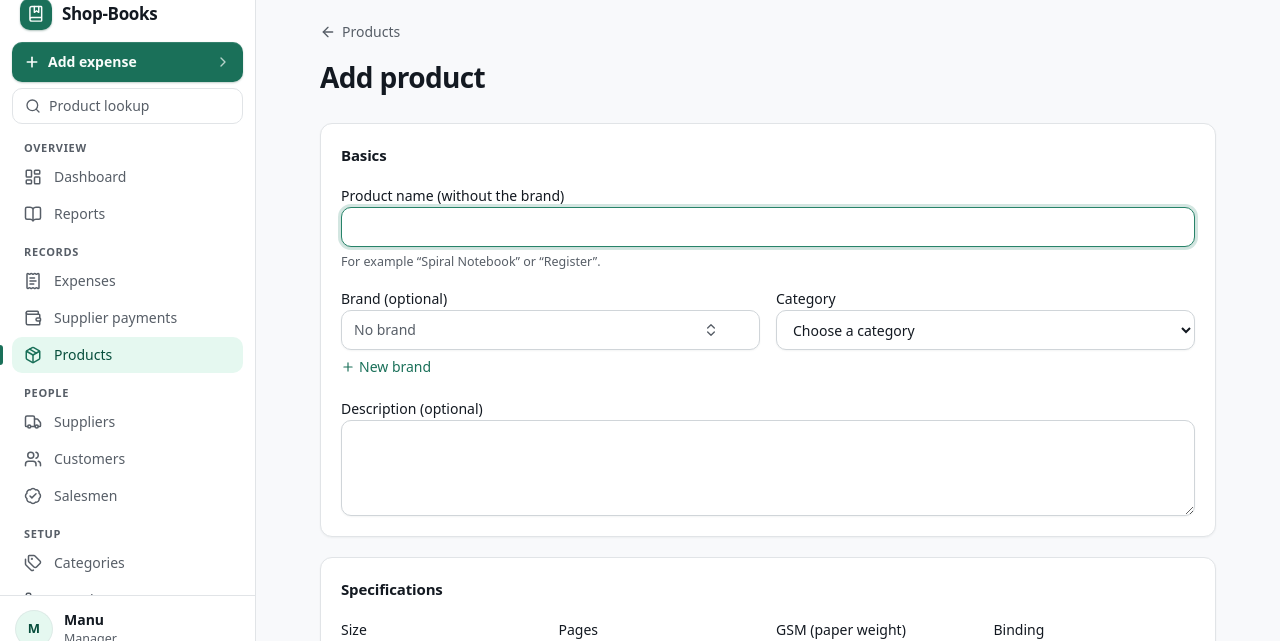
Test case: product form › keeps typed values when the server refuses, and shows its field error
Type "Register" into the field labelled "Product name (without the brand)".
click(768, 226); type("Register")  # box [341,206,1195,246]
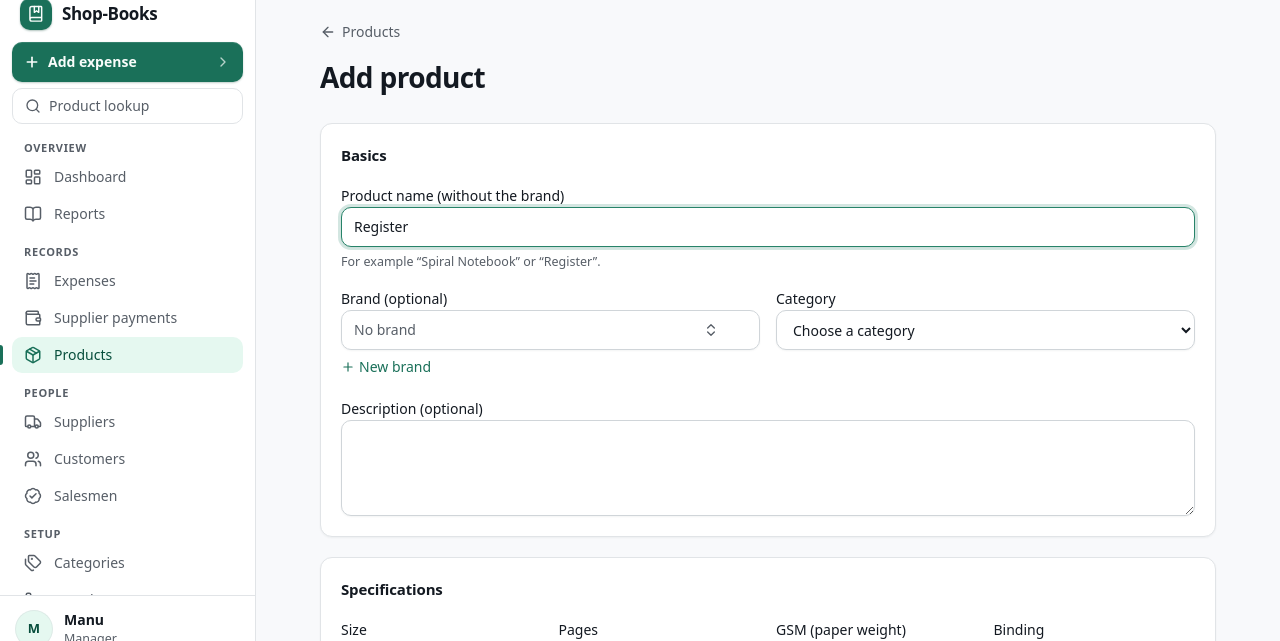
Select "Notebooks" in the dropdown labelled "Category" at [986, 330], box [776,310,1195,350]
(page scrolled)
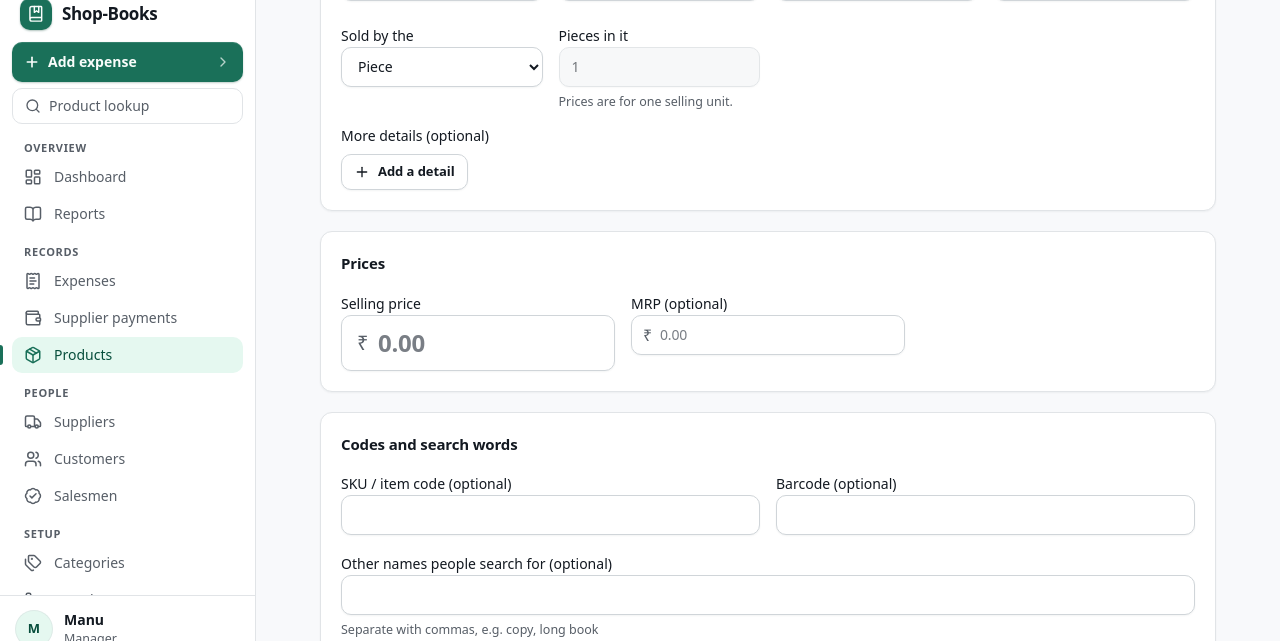
Type "50" into the field labelled "Selling price".
click(478, 343); type("50")  # box [341,315,615,371]
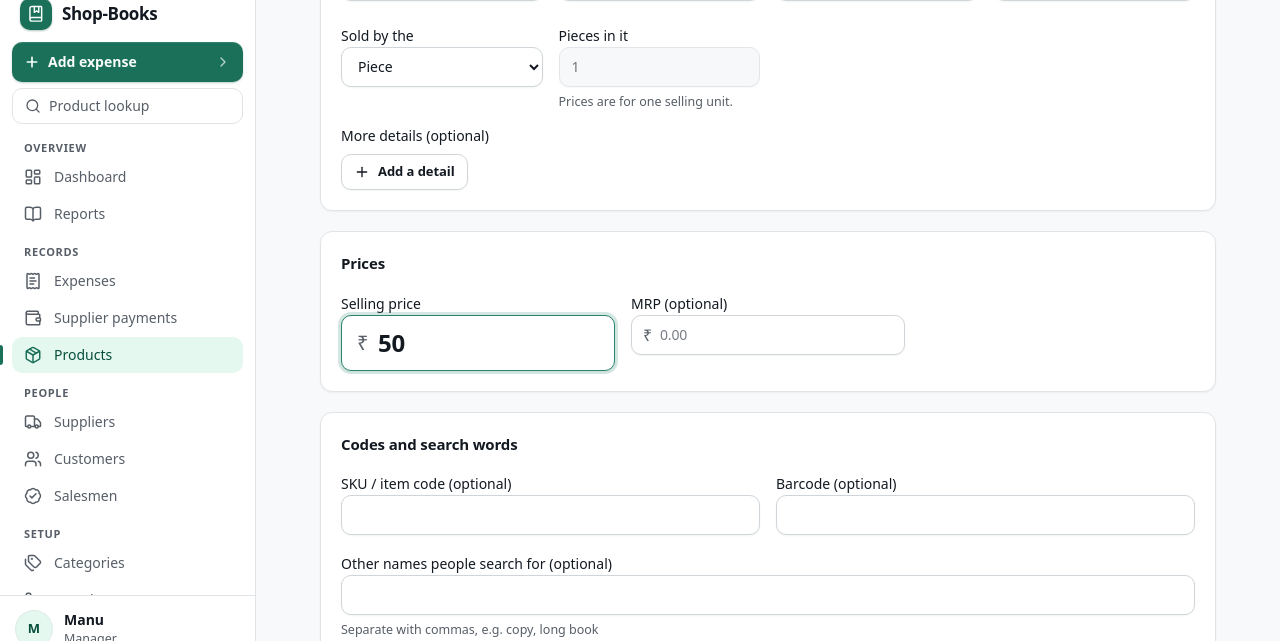
Type "CM-1" into the field labelled "SKU / item code (optional)".
click(550, 515); type("CM-1")  # box [341,495,760,535]
(page scrolled)
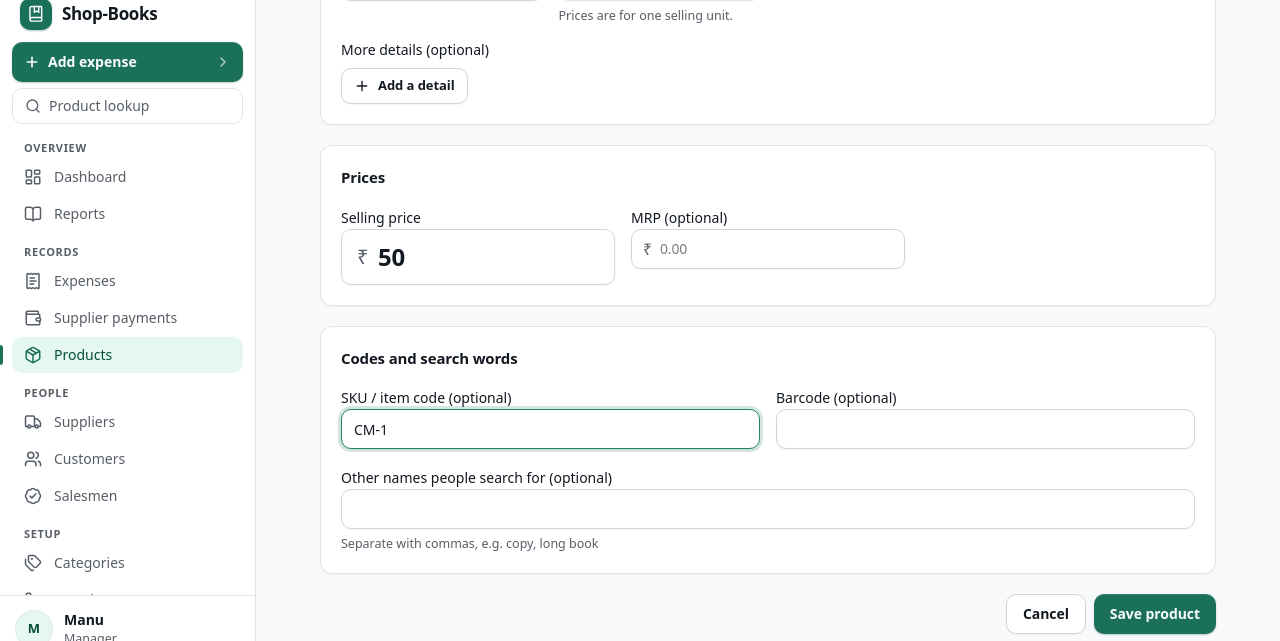
Click the button "Save product".
click(1155, 614)  # box [1094,594,1216,634]
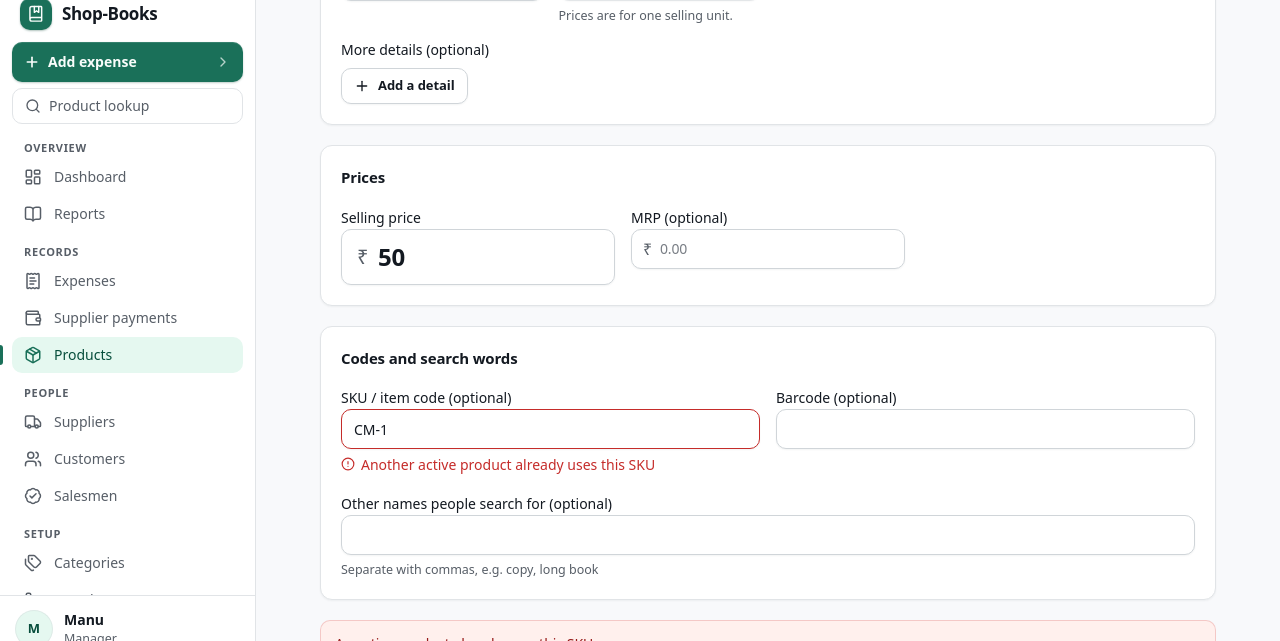
Expected: the text "Another active product already uses this SKU" is shown, [361,455,655,475]
